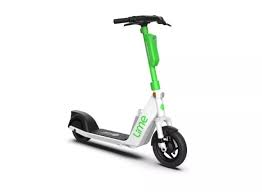kick_board: (67, 14, 187, 168)
kick_handler: (112, 15, 171, 29)
kick_neck: (142, 33, 166, 117)
kick_wheel: (151, 126, 186, 168), (68, 110, 92, 142)
